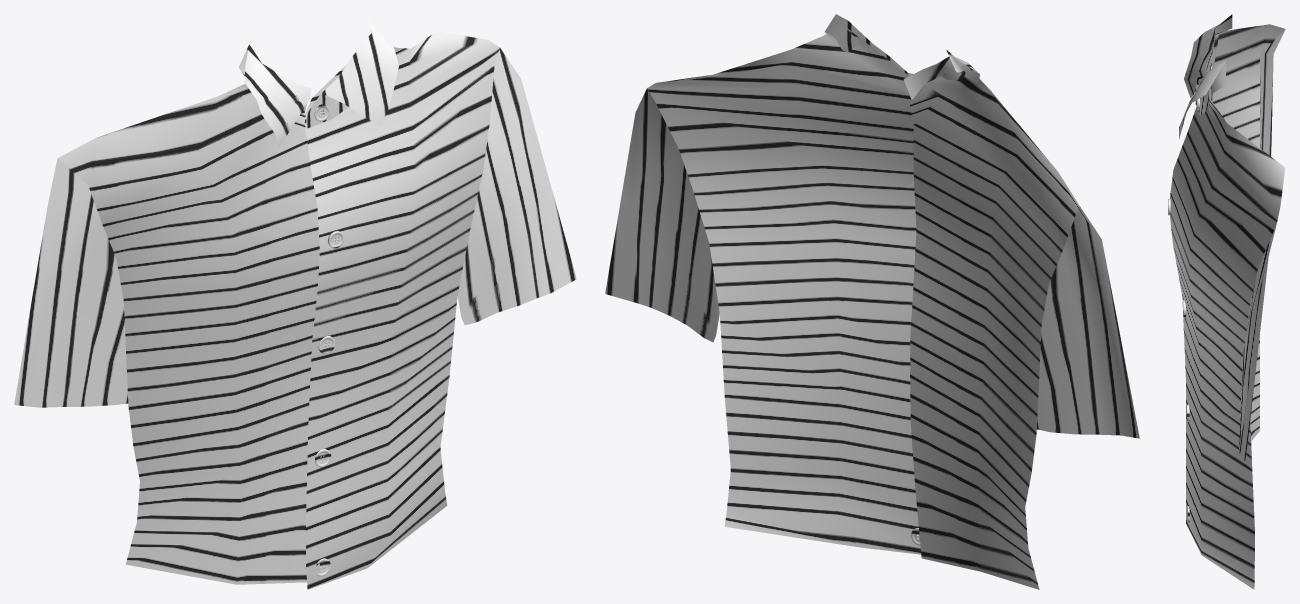
Rendered from ManShirtShortSleevesTexture.glb.
The picture shows the model from 3 angles, left to right: view 1: azimuth 30°, elevation 25°; view 2: azimuth 150°, elevation 25°; view 3: azimuth 270°, elevation 25°; orthographic projection. The views are drawn at different scales.
Parts seen in each view (by area): view 1: Plane; view 2: Plane; view 3: Plane.
Part boxes in pixels (x1,y1,x2,y2): Plane: [14, 14, 576, 589]; Plane: [605, 14, 1139, 589]; Plane: [1168, 14, 1285, 589].
Size of the model in its own units: 2.54 by 2.39 by 0.5108.
1 material, 1 textured.
